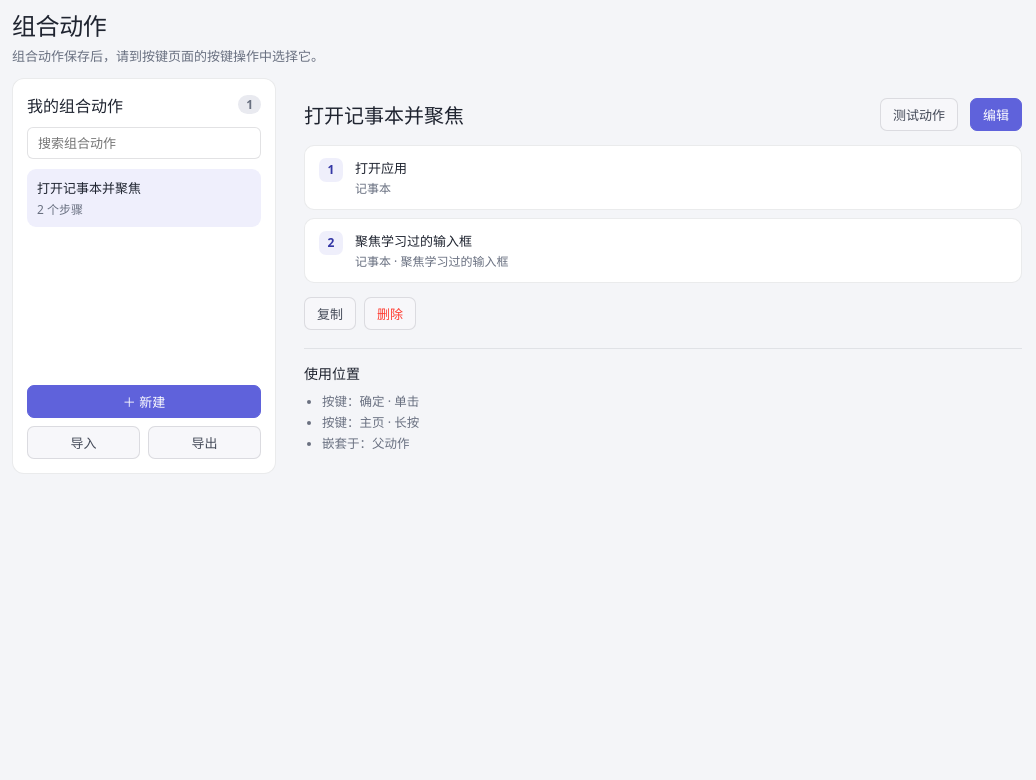
Scenario: 组合动作页 · 库浏览 › 删除确认列出受影响的按键与嵌套引用；确认后调 delete_macro
Click the button "删除".
click(390, 313)  # box [364,297,416,330]
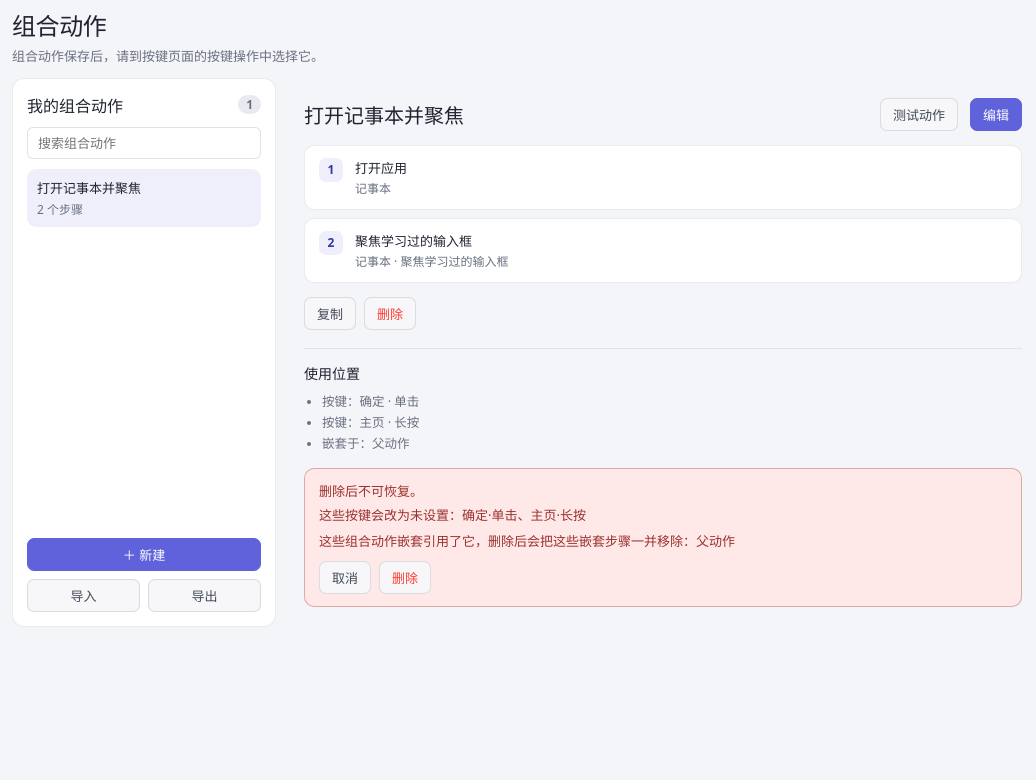
Expected: the text "这些按键会改为" is shown, [319,506,410,524]
Expected: the text "确定·单击、主页·长按" is shown, [449,506,586,524]
Expected: the text "这些组合动作嵌套引用了它" is shown, [319,532,735,550]
Click the button "删除" below "这些组合动作嵌套引用了它，删除后会把这些嵌套步骤一并移除：父动作".
click(405, 578)  # box [379,561,431,594]
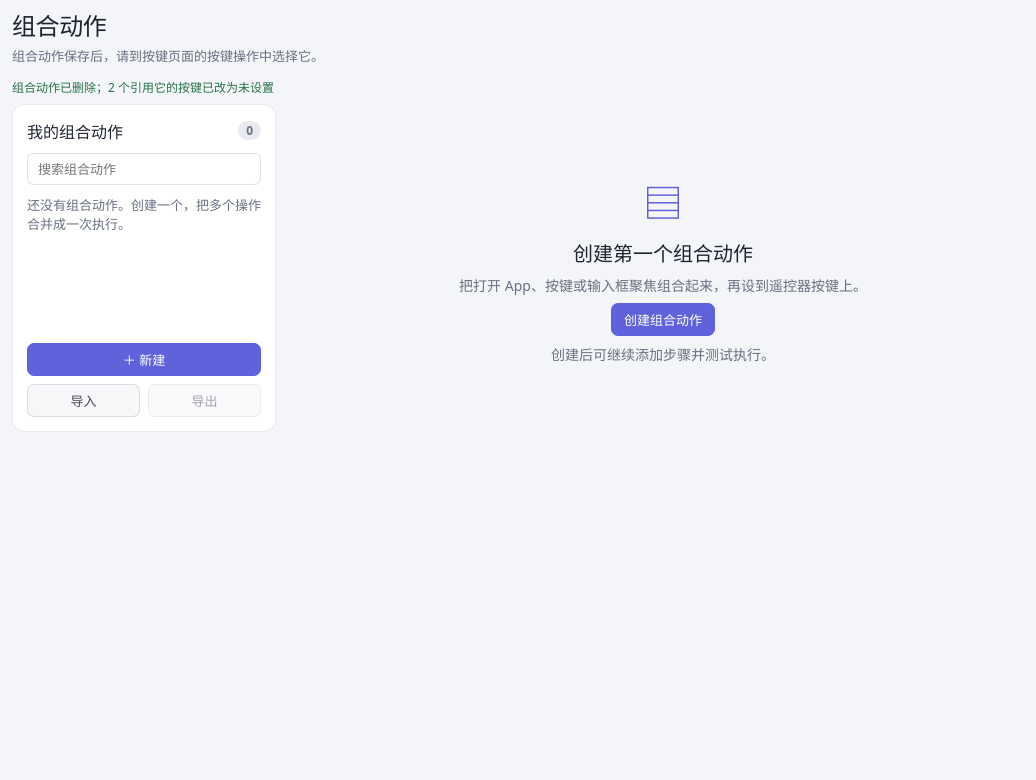
Expected: the text "2 个引用它的按键已改为未设置" is shown, [12,79,274,96]
